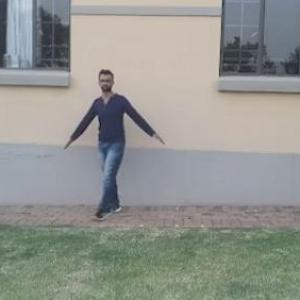land: (69, 73, 170, 228)
